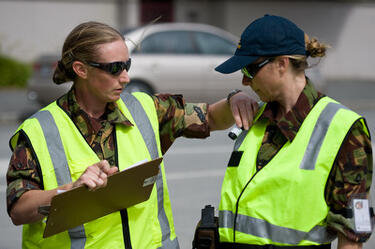Person: (9, 23, 200, 248), (211, 16, 374, 247)
Vest: (10, 54, 180, 248), (219, 51, 371, 247)
